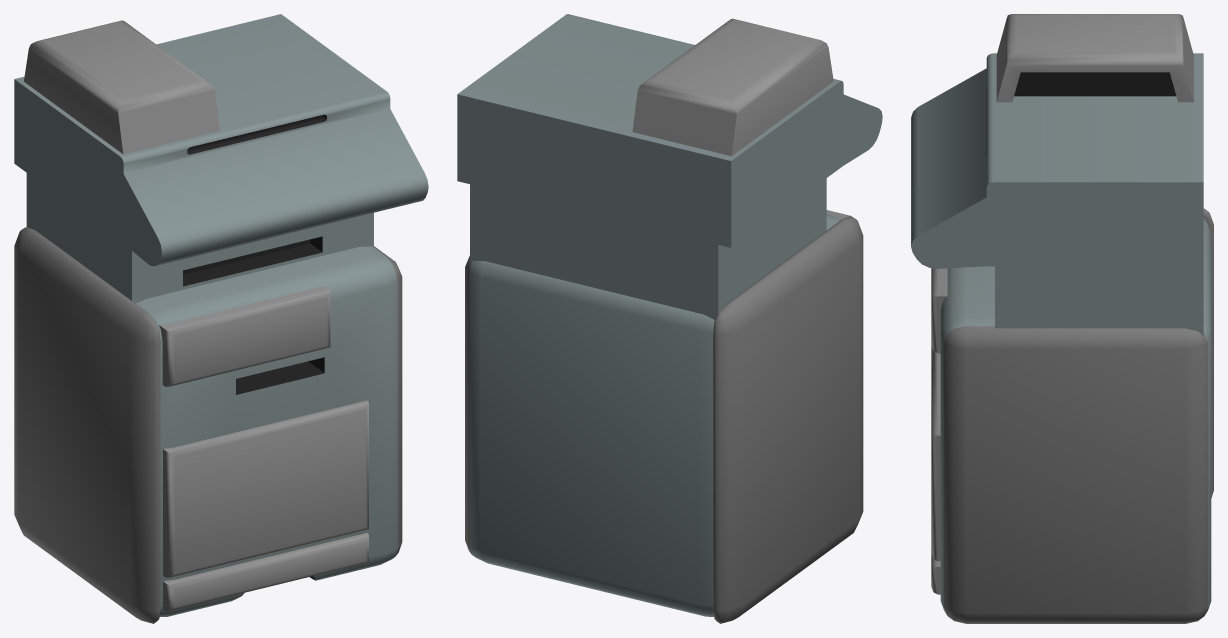
The model's file is Printer-1.fbx.
3 renders of one model, left to right at view 1: azimuth 30°, elevation 25°; view 2: azimuth 150°, elevation 25°; view 3: azimuth 270°, elevation 25°, orthographic. The views are drawn at different scales.
Visible parts, largest first — view 1: Printer-1; view 2: Printer-1; view 3: Printer-1.
Part boxes in pixels (x1,y1,x2,y2): Printer-1: (14,14,428,623); Printer-1: (457,14,882,623); Printer-1: (911,14,1213,623).
Bounding box in the file's own units: 0.6723 × 1.19 × 0.6565.
